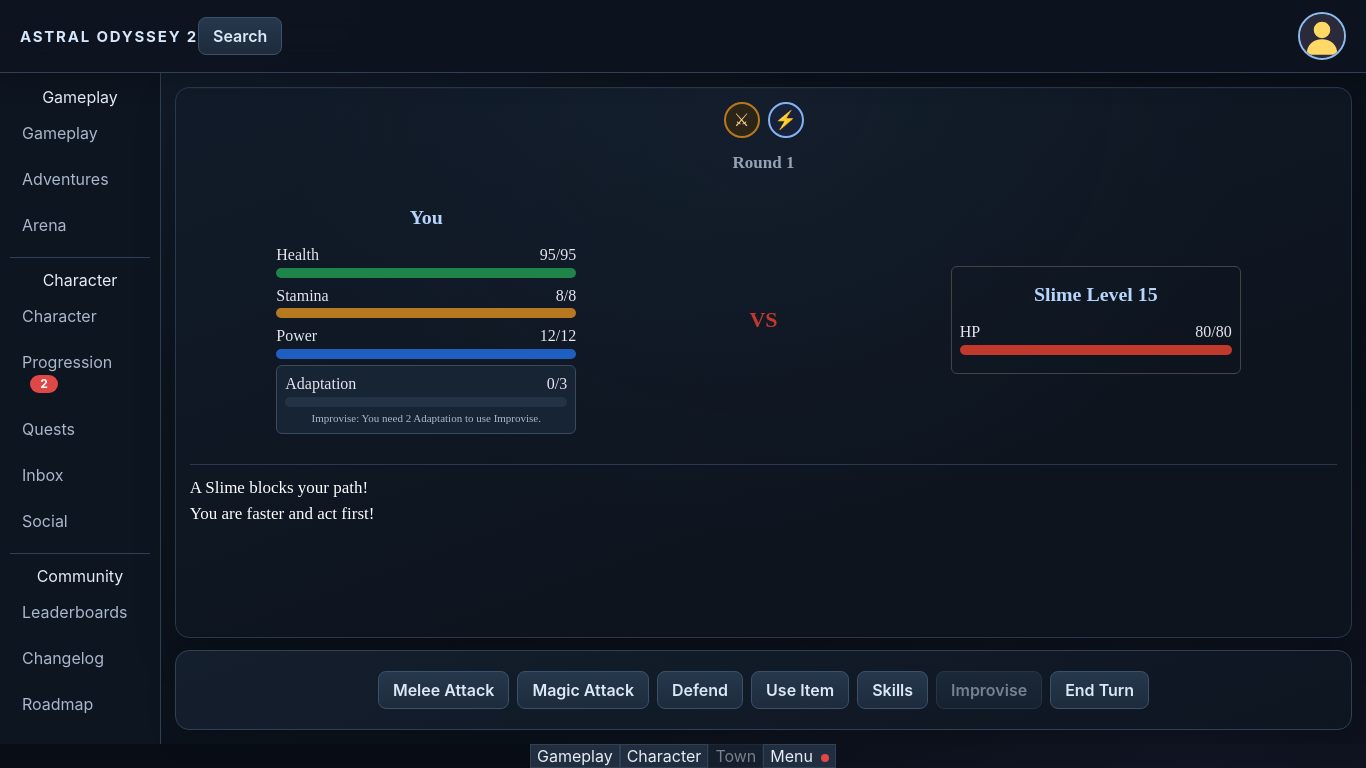
Scenario: real mobile combat keeps its existing actions and blocks Town
Expected: the button "Melee Attack" is shown, [378, 671, 509, 709]
Expected: the button "Magic Attack" is shown, [517, 671, 649, 709]
Click the 2nd button "Character": (664, 756) [620, 744, 708, 767]
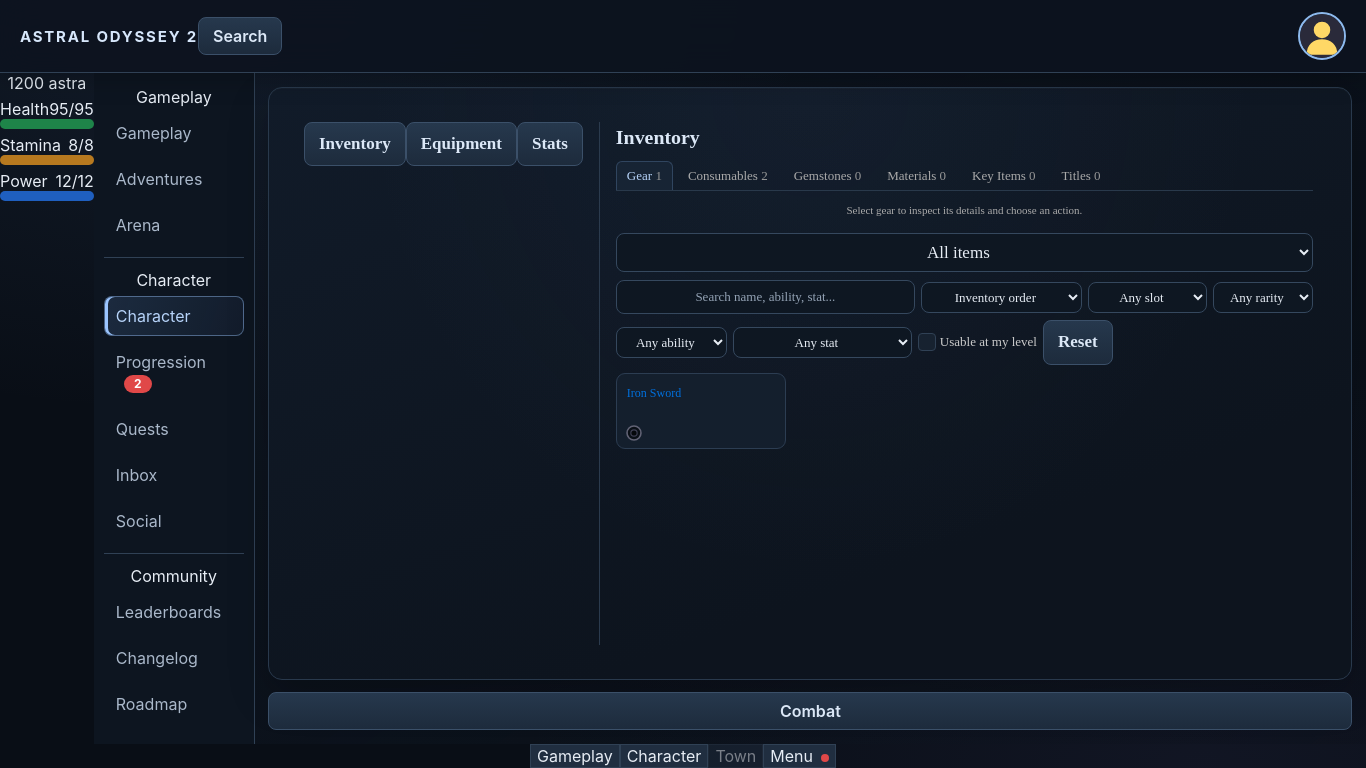
Result: the button "Melee Attack" is gone
Result: the button "Combat" is shown at [268, 692, 1352, 730]
